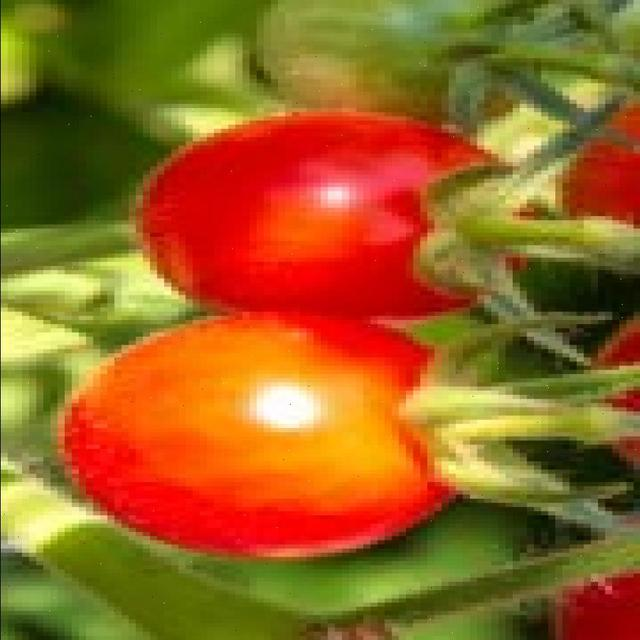Healthy Fruit: (98, 83, 341, 211)
